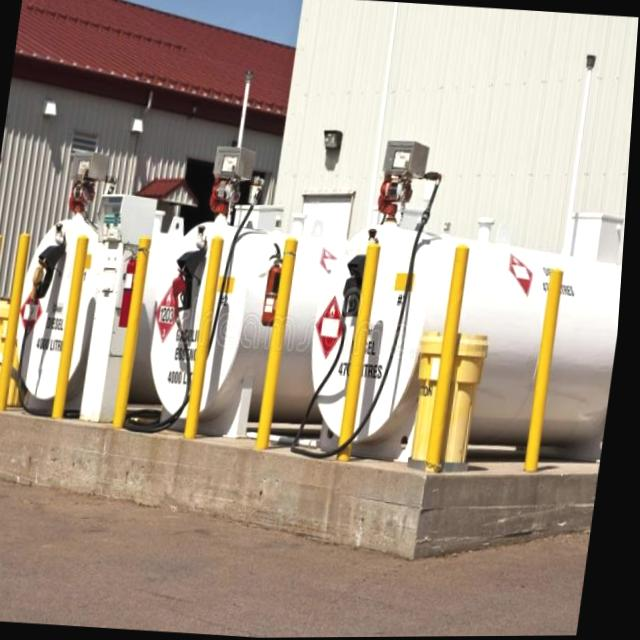FireExtinguisher: (260, 240, 294, 328), (116, 243, 144, 328)
